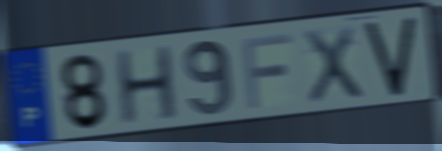8: (58, 52, 108, 132)
9: (182, 38, 236, 118)
F: (239, 30, 295, 112)
H: (114, 43, 181, 127)
V: (362, 13, 418, 99)
X: (300, 23, 366, 107)
